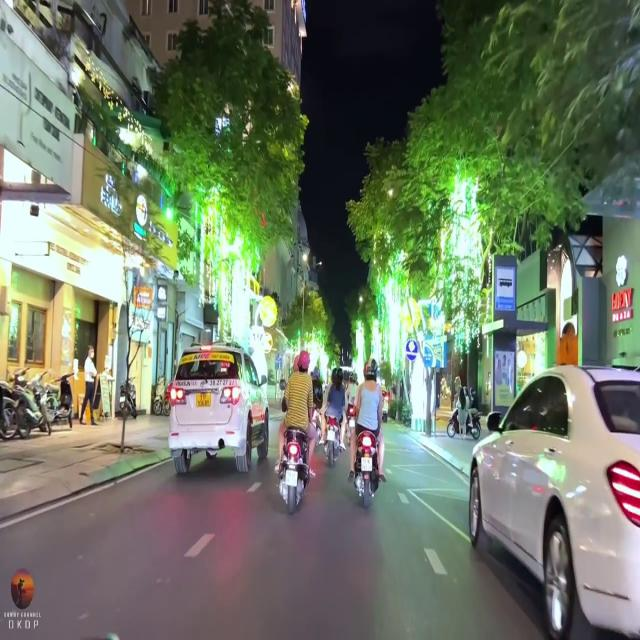bien_vang: (195, 390, 210, 408)
